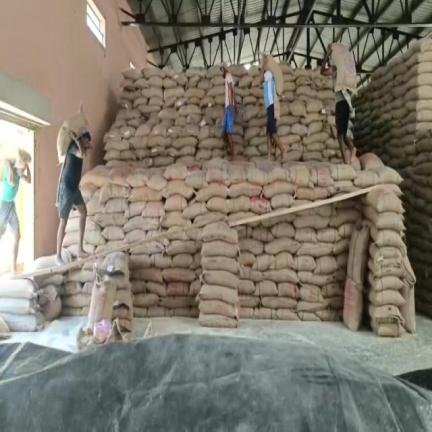Zone-Counting: (56, 106, 90, 265), (321, 44, 356, 163), (0, 146, 30, 271), (260, 53, 284, 159), (221, 64, 236, 156)
